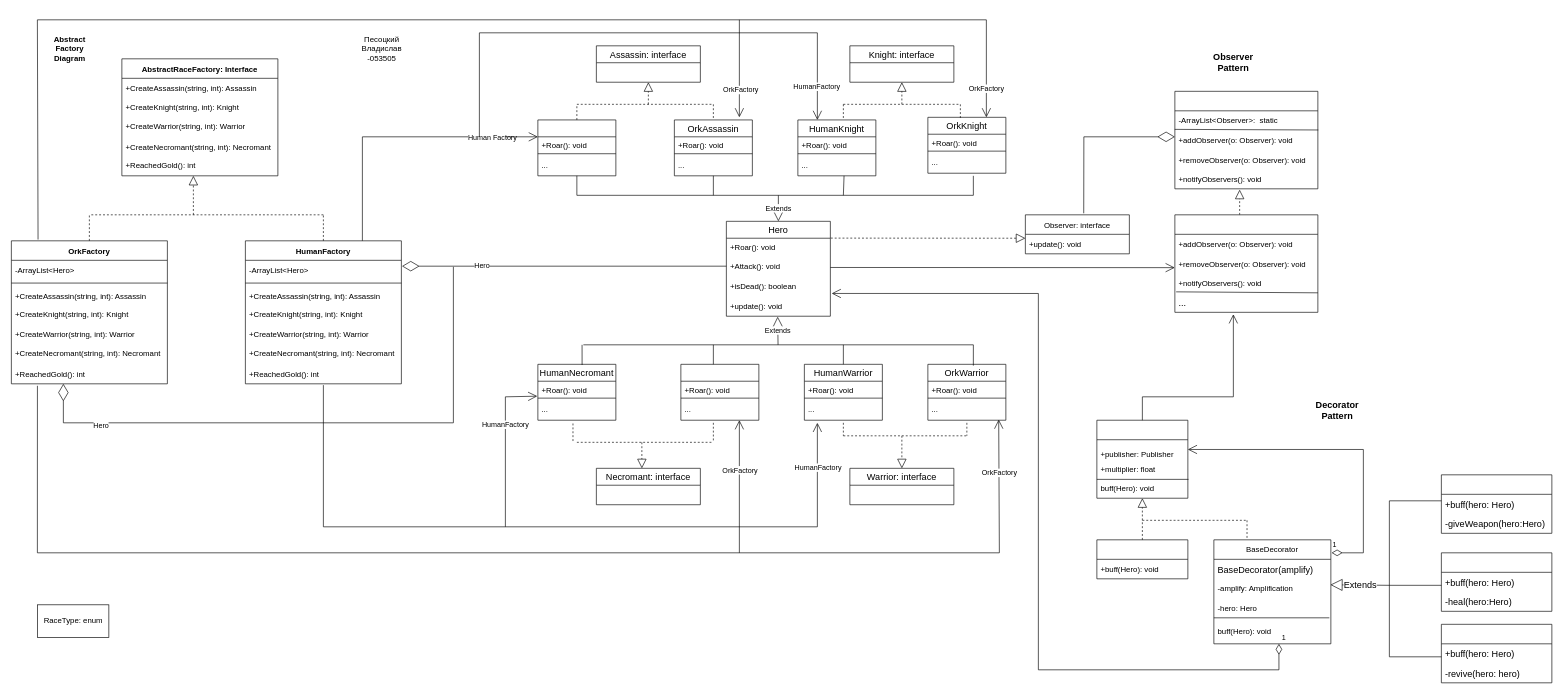
The diagram is 1563 pixels wide and 694 high, and some of its shapes have lost their labels. The shapes that lost their labels are listed below. From the top down, each one's box as (x1, y1, x2, y2) in pixels, then its label:
(537, 119, 616, 176): HumanAssassin
(1174, 91, 1318, 189): AbstractPublisher: interface
(1174, 214, 1318, 312): Publisher
(680, 364, 759, 420): OrkNecromant
(1096, 420, 1188, 498): Amplification: interface
(1441, 474, 1552, 533): DamageDealer
(1096, 539, 1188, 579): AmplificationController
(1441, 552, 1552, 611): Support
(1441, 624, 1552, 683): Reviver
